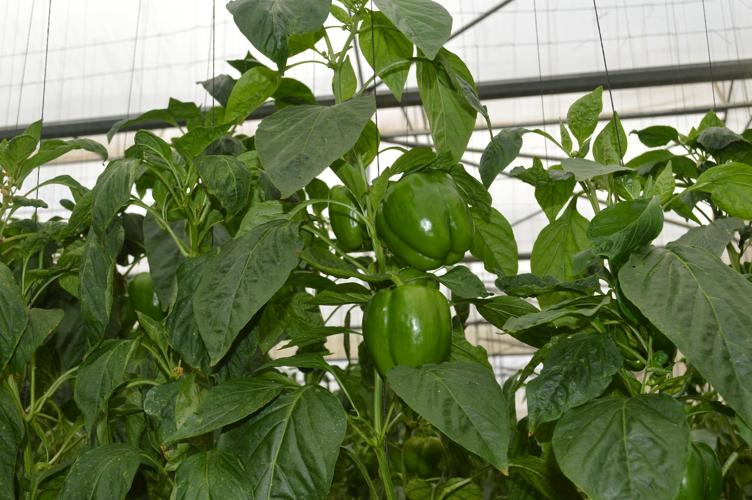BellPepper: (379, 172, 473, 266), (357, 285, 454, 369), (328, 184, 373, 250)
